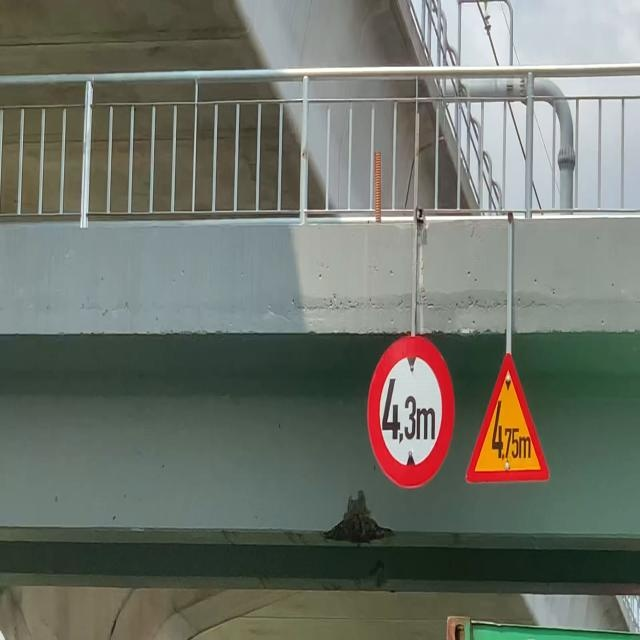bien_nguy_hiem: (363, 337, 462, 488), (463, 346, 552, 487)
